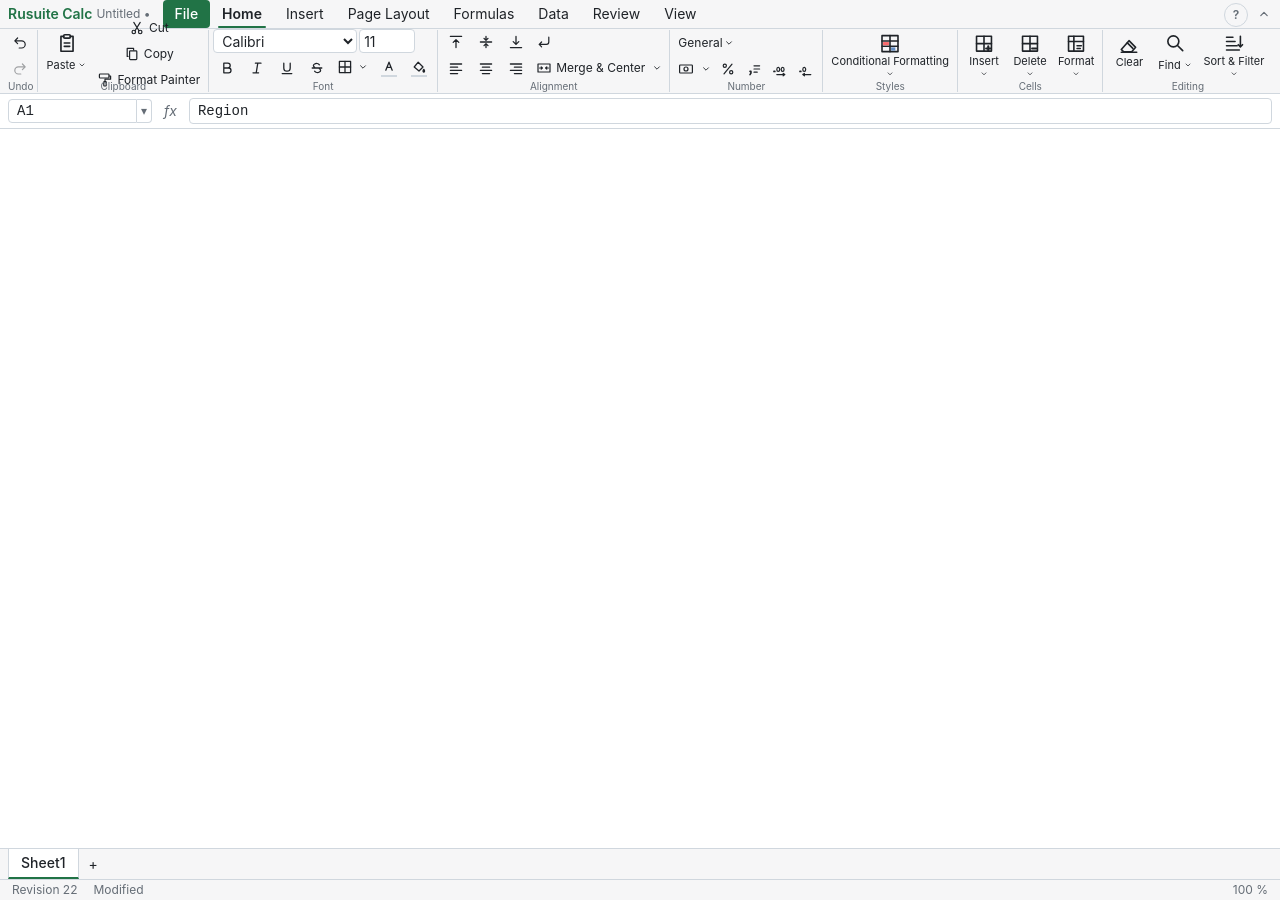
Test: Insert › PivotTable and the field pane › ticking Region adds it to Rows, ticking Sales adds Sum of Sales; the grid gets the table
Expected: the tab "Sheet1" is shown, [8, 849, 78, 879]
Click the tab "Insert".
click(305, 14)  # box [274, 0, 336, 28]
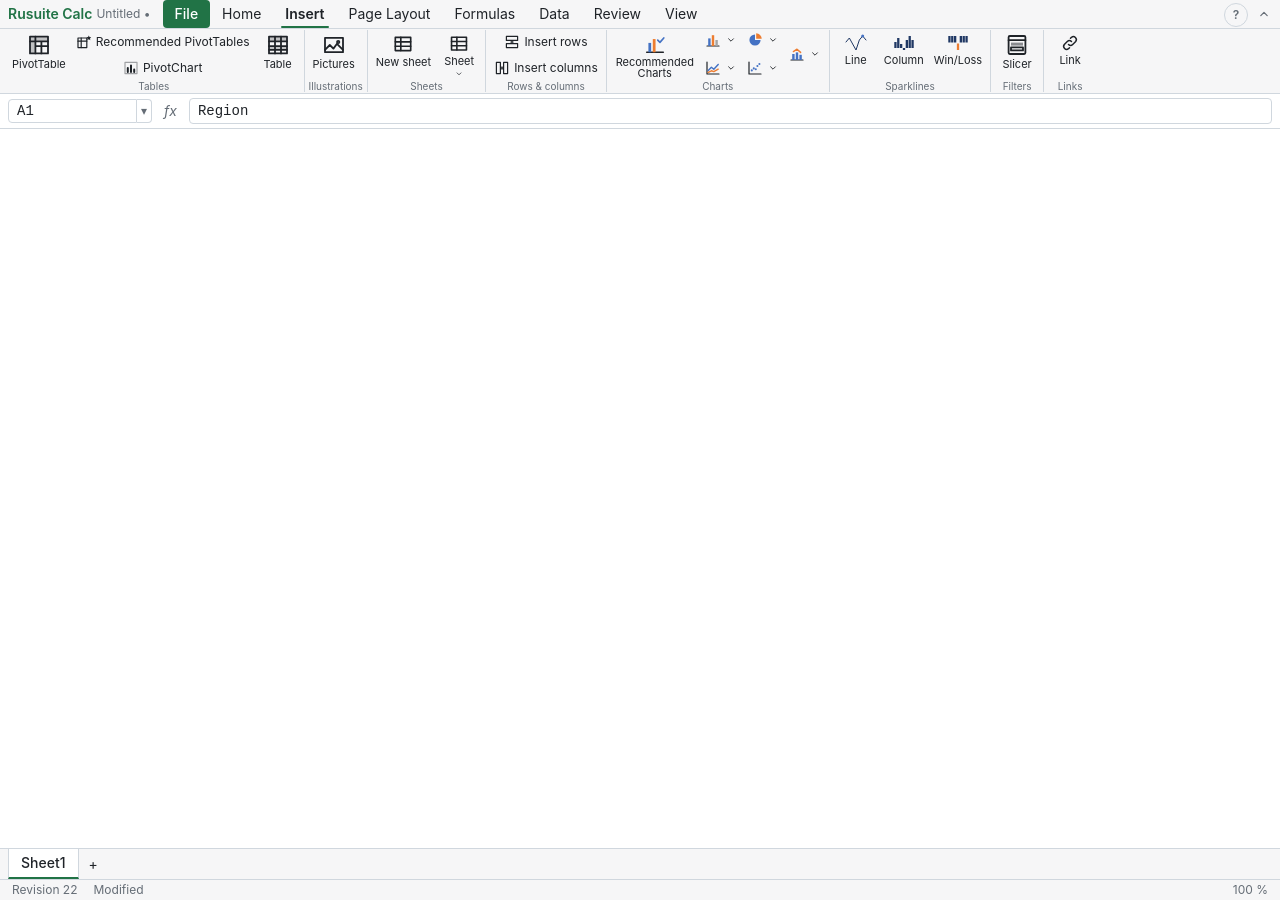
Click the button "PivotTable".
click(39, 55)  # box [8, 31, 70, 79]
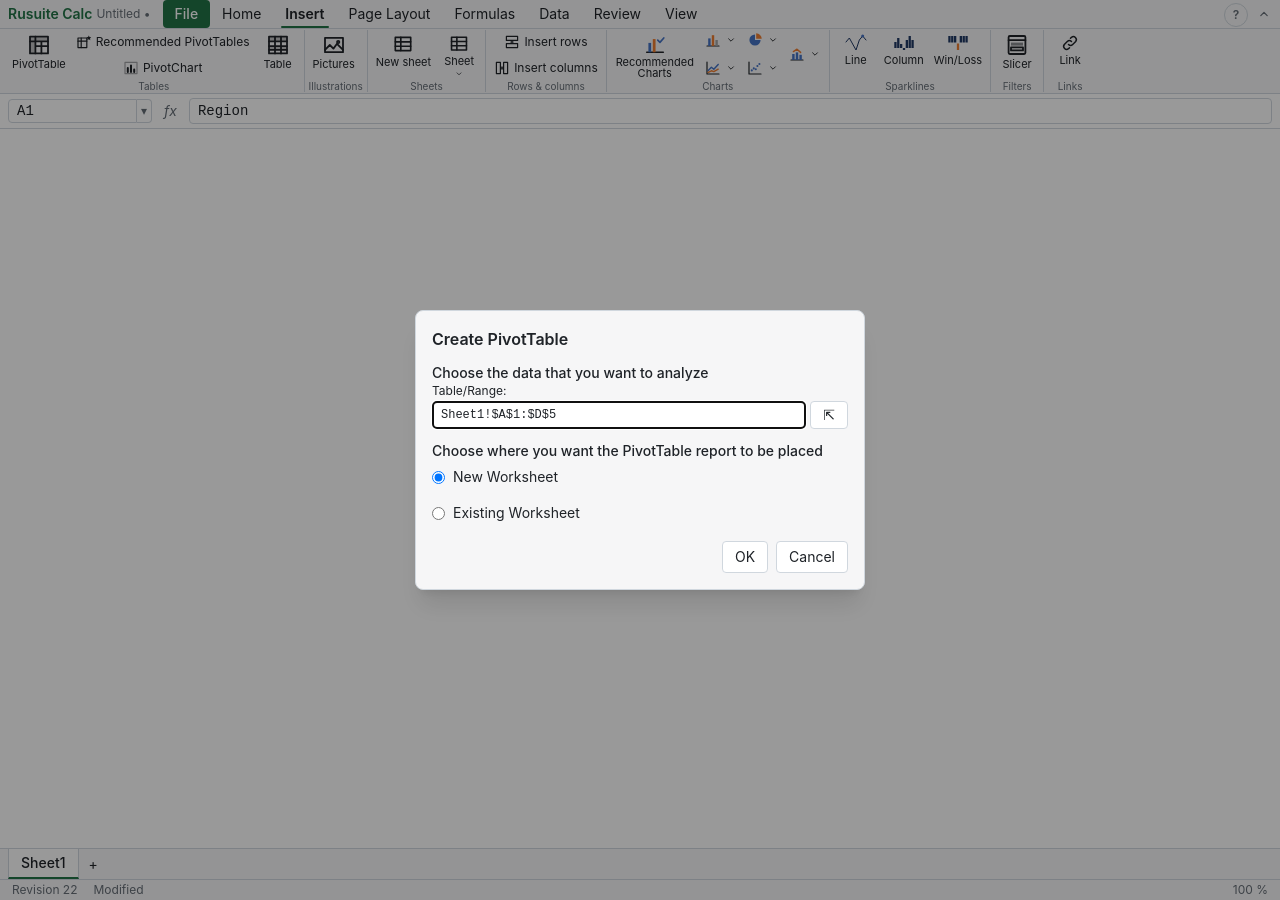
Now the field with test id "pivot-source" holds "Sheet1!$A$1:$D$5", box [432, 401, 806, 429]
Click the button "OK".
click(745, 557)  # box [722, 541, 768, 573]
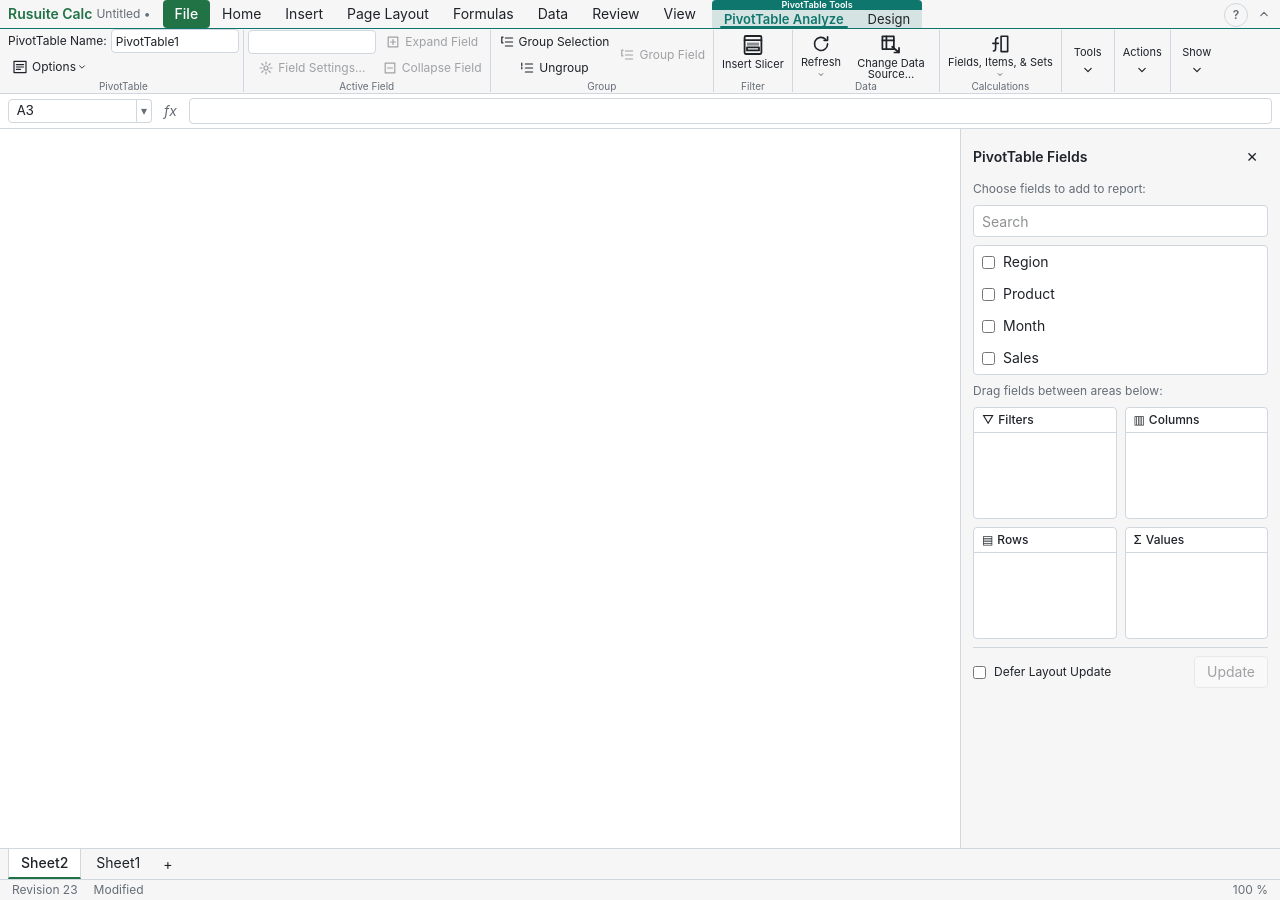
Now the checkbox named "Region" is shown
Click the checkbox named "Region".
click(988, 262)  # box [982, 256, 995, 268]
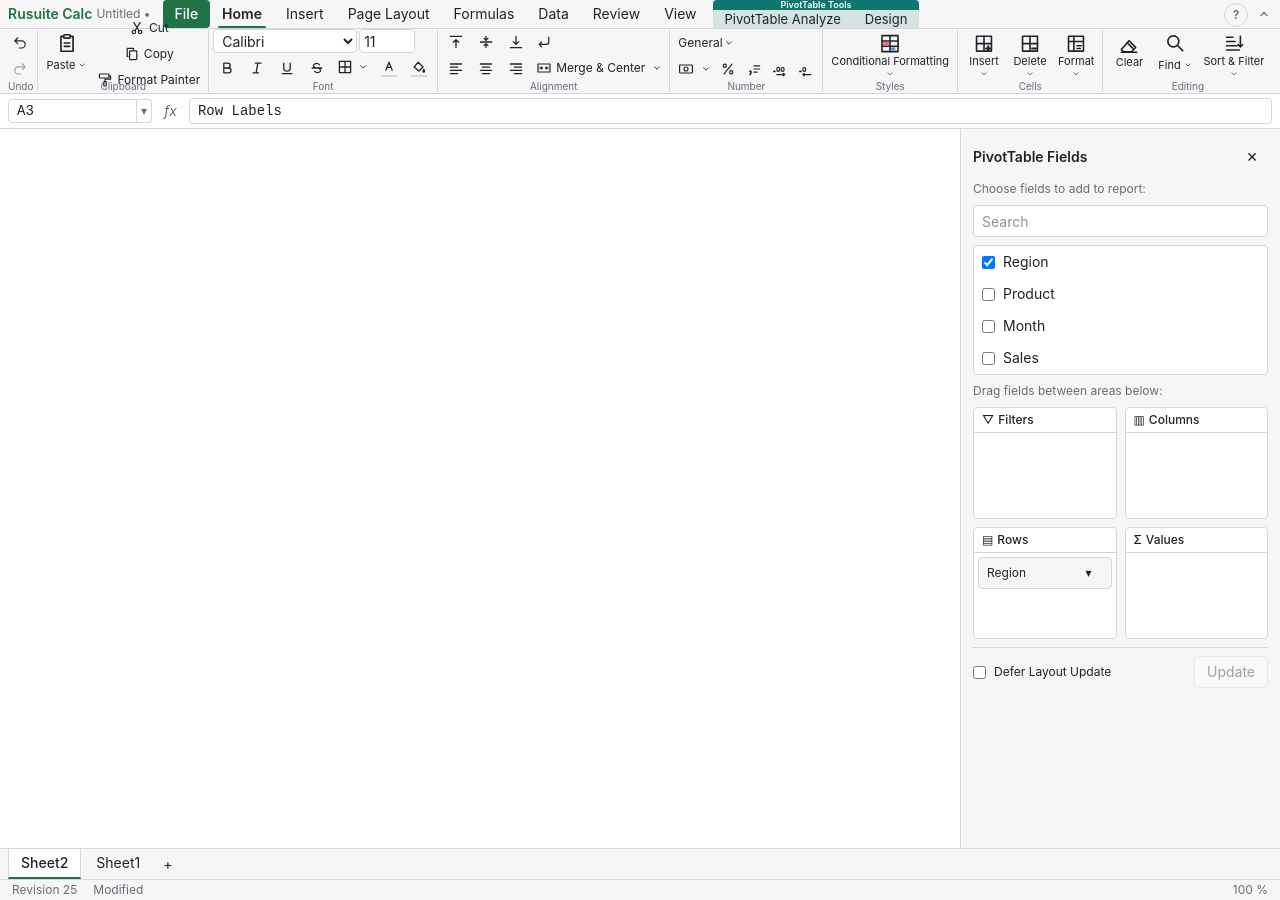
Now the list with test id "pivot-area-rows" shows "Region", box [987, 565, 1026, 580]
Click the checkbox named "Sales".
click(988, 358)  # box [982, 352, 995, 364]
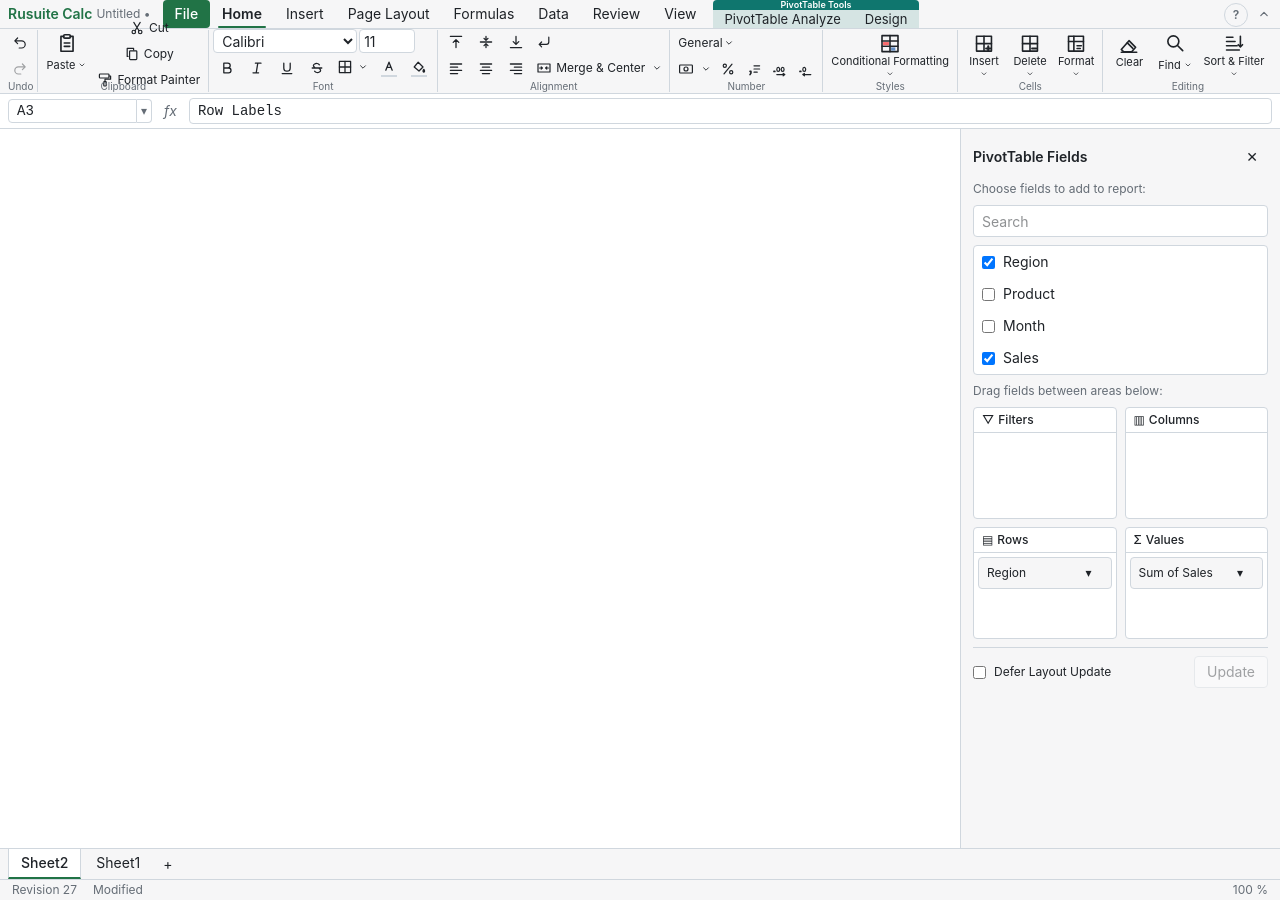
Now the text "Sum of Sales" is shown, box [1138, 565, 1222, 581]
